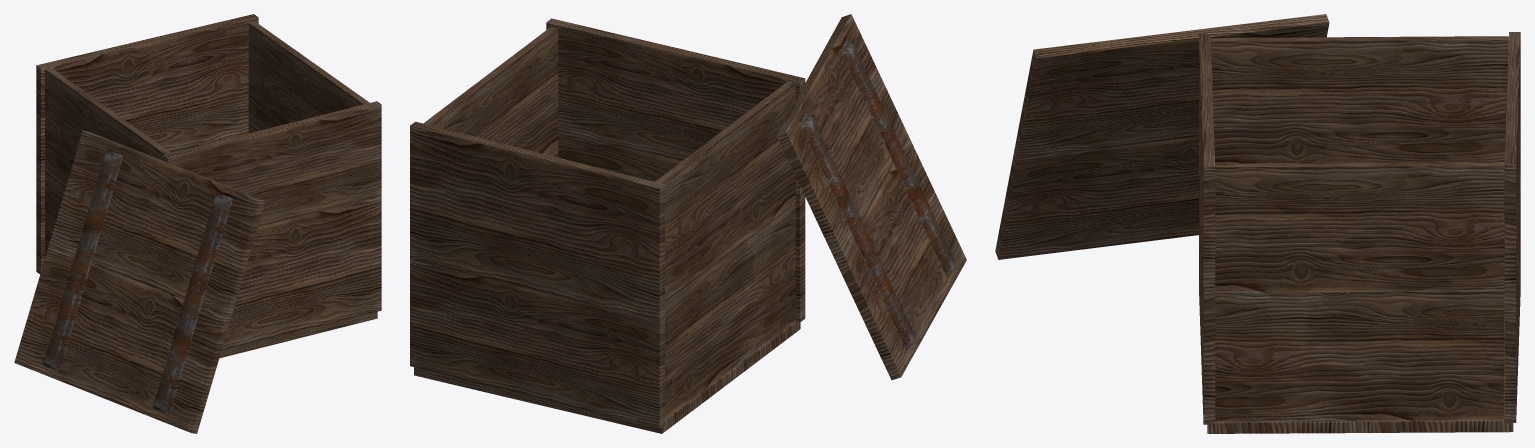
Rendered from storage_box_05.fbx.
3 renders of one model, left to right at view 1: azimuth 30°, elevation 25°; view 2: azimuth 150°, elevation 25°; view 3: azimuth 270°, elevation 25°, orthographic. The views are drawn at different scales.
Parts seen in each view (by area): view 1: storage_box_05; view 2: storage_box_05; view 3: storage_box_05.
Boxes of the visible parts, box(x1,y1,x2,y2) form: storage_box_05: box(14, 14, 381, 433); storage_box_05: box(410, 14, 966, 433); storage_box_05: box(995, 14, 1520, 433).
Bounding box in the file's own units: 111 × 68.07 × 120.
